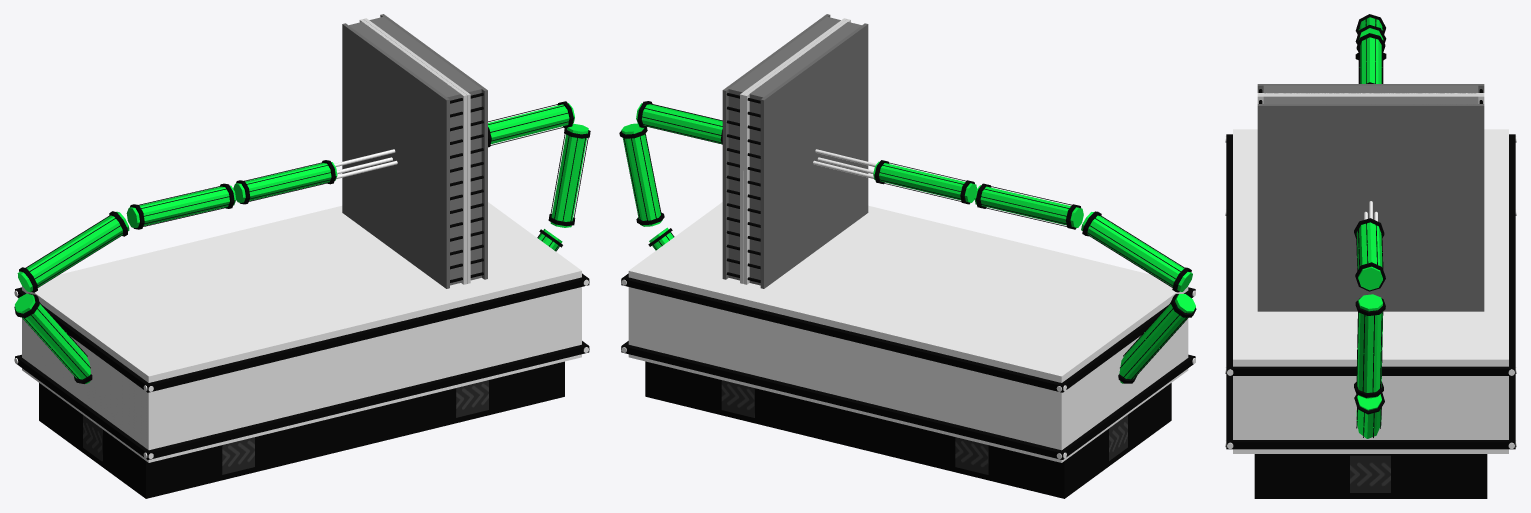
File: Concatenator1.fbx
3 views of the same model, side by side, from view 1: azimuth 30°, elevation 25°; view 2: azimuth 150°, elevation 25°; view 3: azimuth 270°, elevation 25° (orthographic). The views are drawn at different scales.
Parts seen in each view (by area): view 1: Cube, Plaque, Base, Plaque.003, Cylinder, Logos, Cylinder.001, Cylinder.005, Cylinder.003, Cylinder.002, Cylinder.006; view 2: Cube, Plaque, Base, Plaque.003, Cylinder, Logos, Cylinder.001, Cylinder.003, Cylinder.005, Cylinder.002, Cylinder.006; view 3: Cube, Plaque.003, Base, Cylinder.005, Plaque, Cylinder.006, Logos, Cylinder.001, Cylinder.004, Cylinder.
Part boxes in pixels (x1,y1,x2,y2): Cube: (14,202,589,462); Plaque: (334,19,466,288); Base: (39,361,564,498); Plaque.003: (363,14,487,283); Cylinder: (17,211,129,292); Logos: (83,380,488,474); Cylinder.001: (126,183,235,229); Cylinder.005: (548,124,590,227); Cylinder.003: (14,293,92,383); Cylinder.002: (233,160,337,204); Cylinder.006: (488,101,574,147); Cube: (621,202,1195,462); Plaque: (743,19,876,288); Base: (645,361,1171,498); Plaque.003: (722,14,846,283); Cylinder: (1081,211,1192,292); Logos: (721,380,1127,474); Cylinder.001: (974,183,1083,229); Cylinder.003: (1118,294,1196,383); Cylinder.005: (619,123,664,226); Cylinder.002: (873,160,976,204); Cylinder.006: (636,101,722,144); Cube: (1225,129,1516,453); Plaque.003: (1257,95,1484,311); Base: (1254,454,1487,498); Cylinder.005: (1354,294,1385,398); Plaque: (1257,84,1484,94); Cylinder.006: (1354,218,1385,291); Logos: (1350,455,1390,492); Cylinder.001: (1356,33,1385,83); Cylinder.004: (1354,393,1384,438); Cylinder: (1355,14,1386,44).
Bounding box in the file's own units: 490 × 198 × 265.
